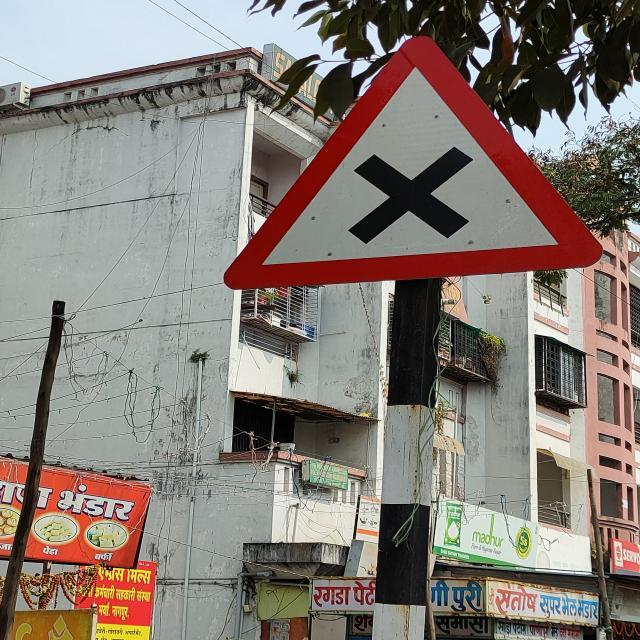cross road: (221, 35, 606, 276)
